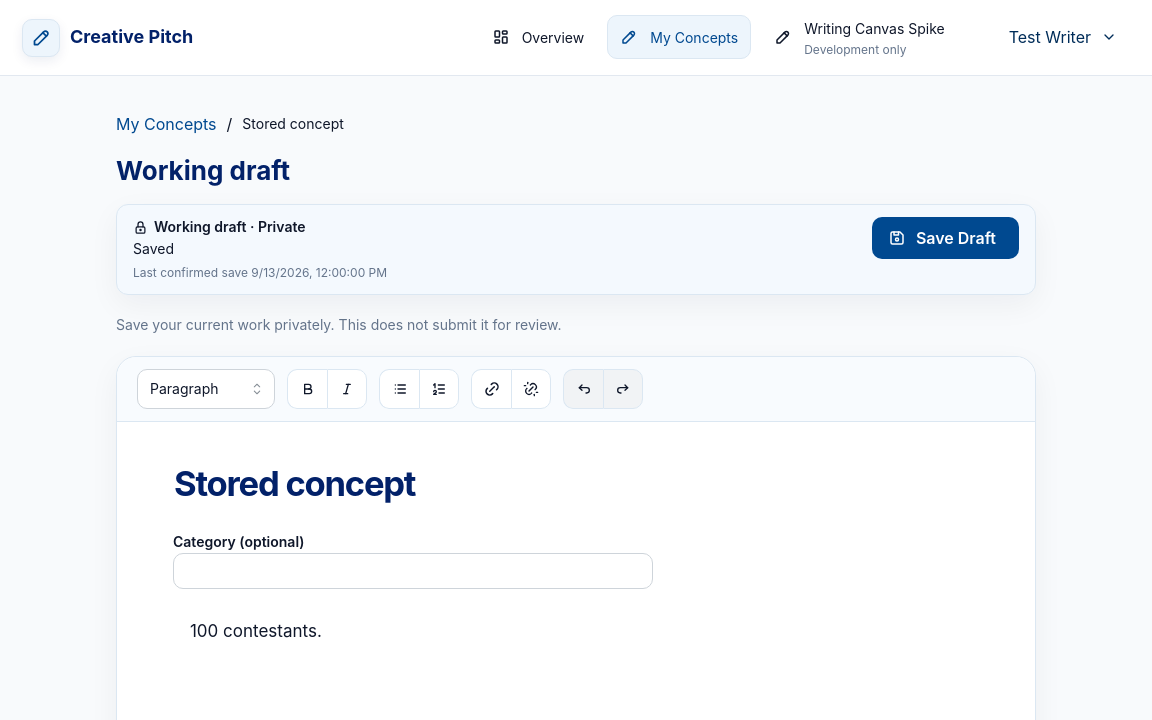
it: preserves all writing and the last confirmed timestamp on 403 save failure
This screenshot has width=1152, height=720.
Step 1. Replace the text in the text box named "Concept title" with "Unsaved title" → [576, 483], box x1=173 y1=462 x2=979 y2=505
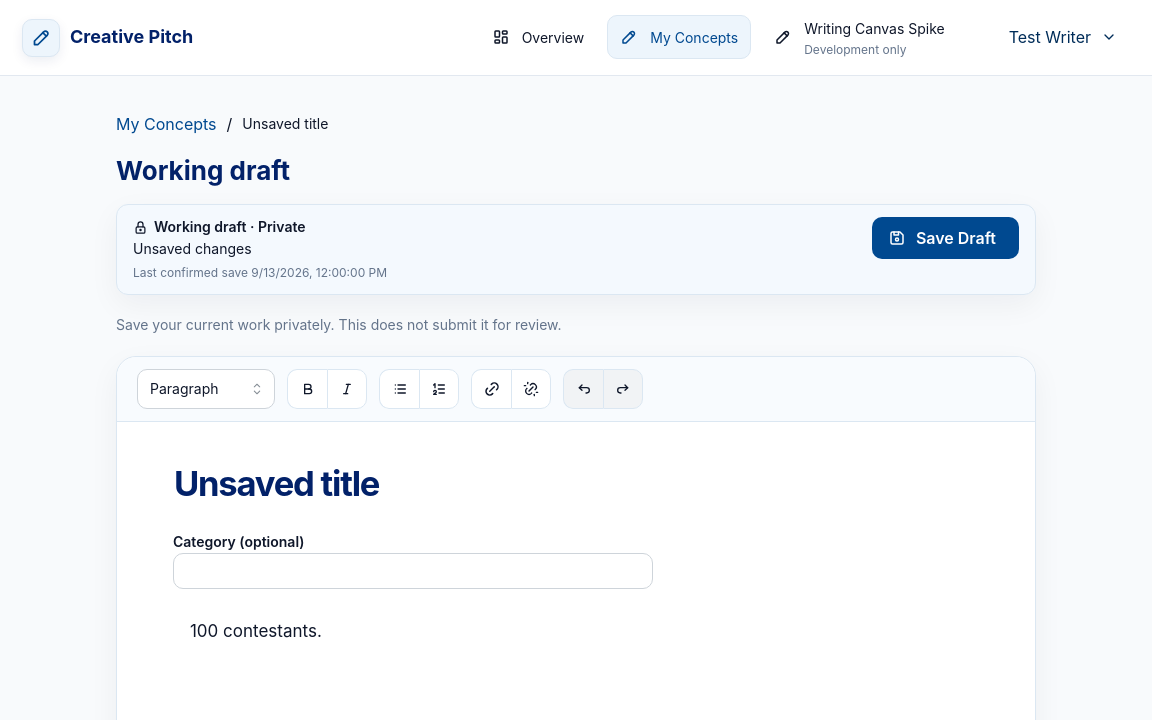
Step 2. Type "Unsaved category" into the field labelled "Category (optional)" → [413, 571], box x1=173 y1=553 x2=653 y2=589
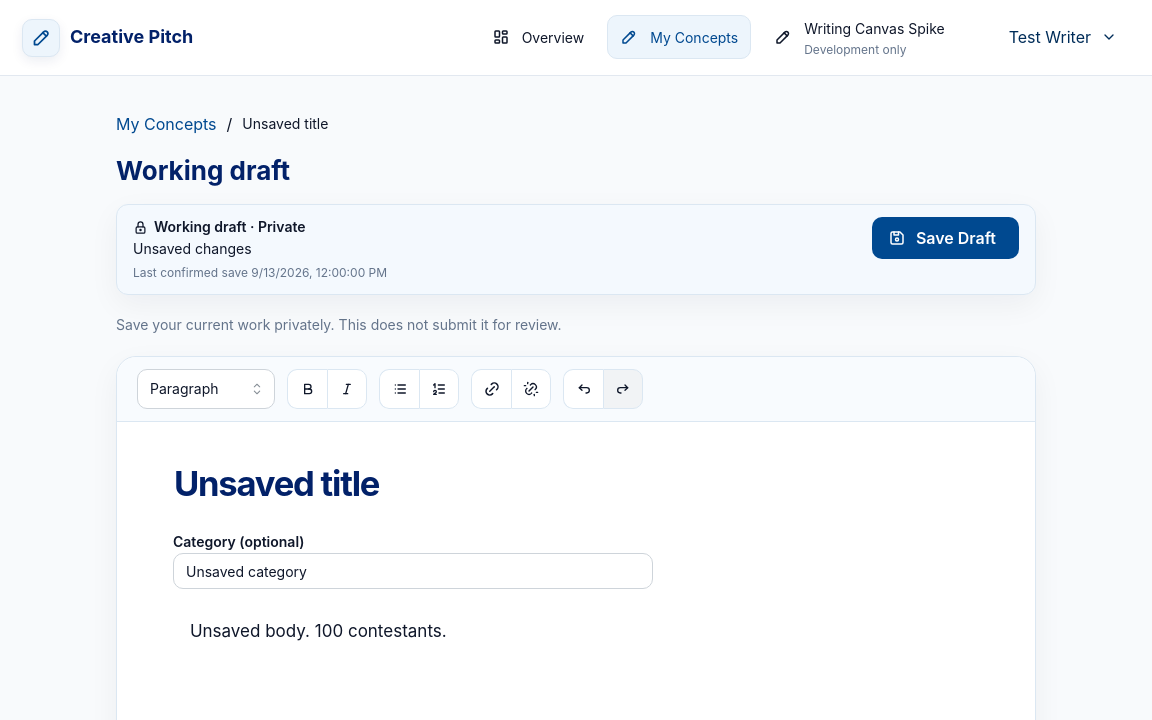
Step 3. Click the button "Save Draft" → [946, 238], box x1=872 y1=217 x2=1019 y2=259
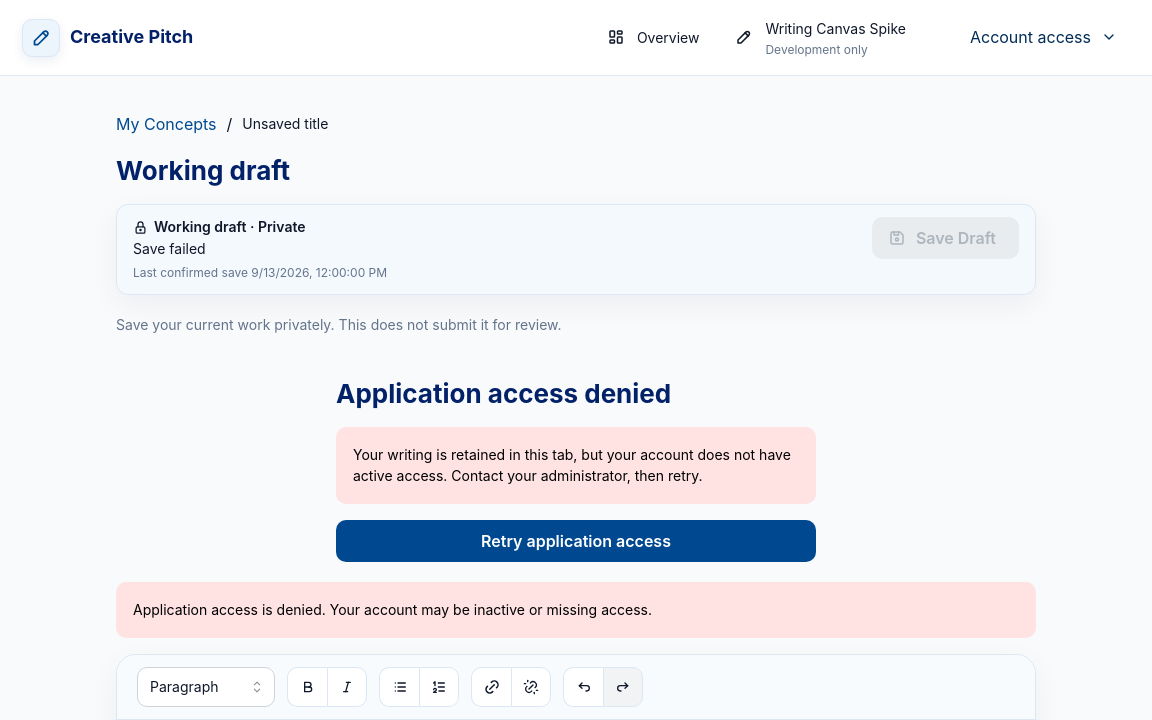
Expected: the text "Save failed" is shown, x1=133 y1=240 x2=206 y2=257
